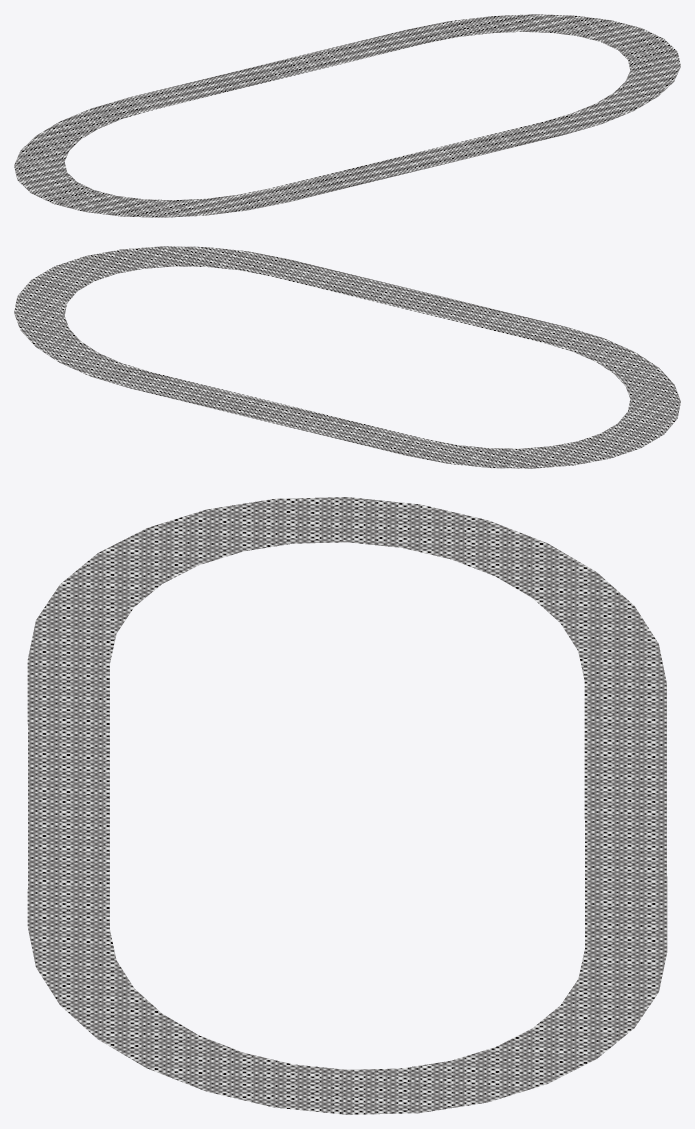
Rendered from circ01_road.FBX.
3 views of the same model, one above another, from view 1: azimuth 30°, elevation 25°; view 2: azimuth 150°, elevation 25°; view 3: azimuth 270°, elevation 25° (orthographic). The views are drawn at different scales.
Visible parts, largest first — view 1: circ01_road; view 2: circ01_road; view 3: circ01_road.
Part boxes in pixels (x1,y1,x2,y2): circ01_road: (14,14,680,217); circ01_road: (14,246,680,468); circ01_road: (27,497,667,1114).
Bounding box in the file's own units: 354944 × 6506 × 155257.
1 material, 1 textured.
